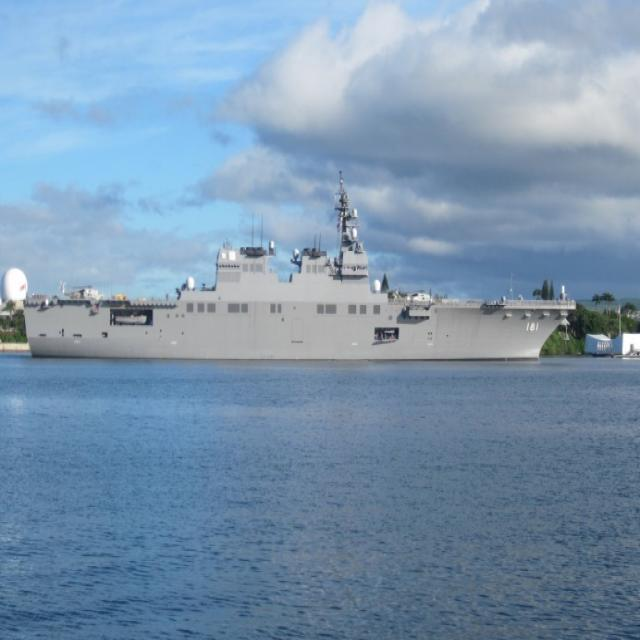Portanaves: (16, 163, 581, 370)
